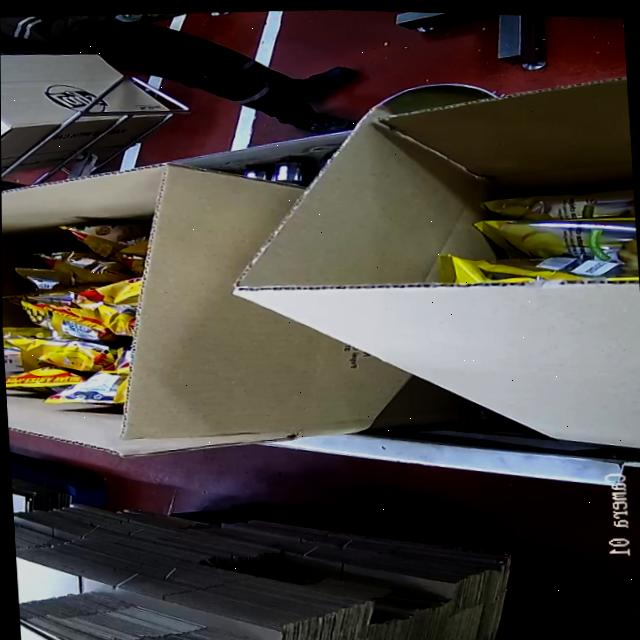SALTED: (1, 199, 141, 415), (427, 184, 639, 287)
